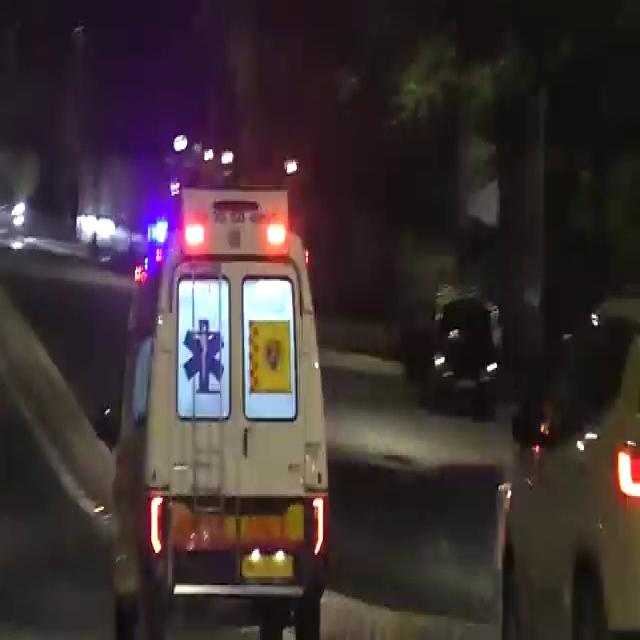ambulance: (115, 175, 346, 639)
